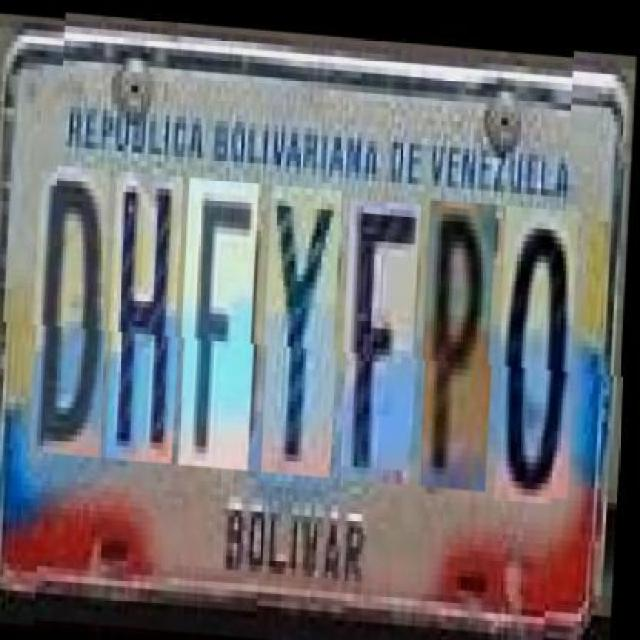d: (35, 163, 116, 454)
f: (184, 174, 264, 466), (344, 192, 425, 477)
h: (110, 170, 188, 461)
o: (499, 195, 584, 494)
p: (423, 190, 502, 482)
y: (266, 180, 346, 472)
